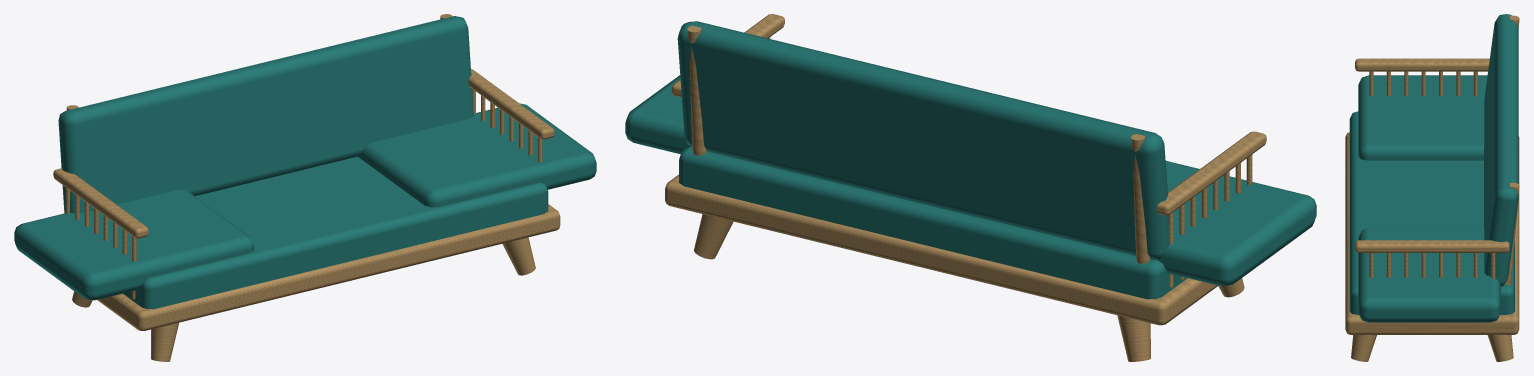
Rendered from garden_daybed_veranda-39f05817f4b0.glb.
3 views of the same model, side by side, from view 1: azimuth 30°, elevation 25°; view 2: azimuth 150°, elevation 25°; view 3: azimuth 270°, elevation 25° (orthographic). The views are drawn at different scales.
Visible parts, largest first — view 1: surface_teal, surface_bamboo; view 2: surface_teal, surface_bamboo; view 3: surface_teal, surface_bamboo.
Part boxes in pixels (box(x1,y1,x2,y2)): surface_teal: box(14, 16, 596, 309); surface_bamboo: box(53, 14, 560, 361); surface_teal: box(625, 21, 1316, 299); surface_bamboo: box(665, 14, 1266, 361); surface_teal: box(1349, 14, 1518, 322); surface_bamboo: box(1345, 15, 1519, 361).
Bounding box in the file's own units: 2.35 × 0.8551 × 0.7514.
2 materials, 1 textured.
